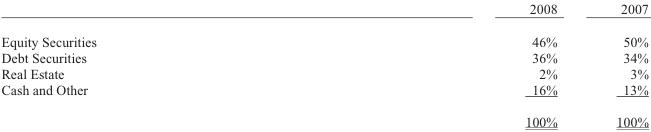table: (0, 0, 648, 128)
table column: (0, 0, 310, 128), (310, 0, 586, 128), (586, 0, 648, 128)
table column header: (0, 0, 648, 24)
table row: (0, 24, 648, 49), (0, 0, 648, 24), (0, 81, 648, 105), (0, 105, 648, 128), (0, 49, 648, 65), (0, 65, 648, 81)
